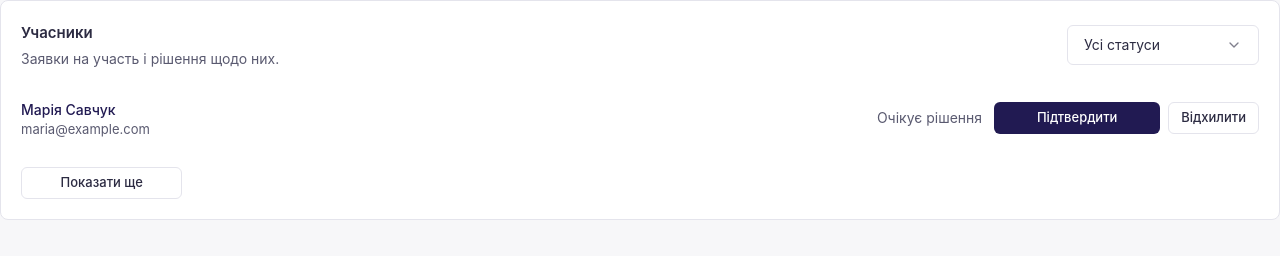
it: EventParticipantsCard › loads another cursor page without discarding the first
Click the button "Показати ще": (102, 183) [21, 167, 182, 199]
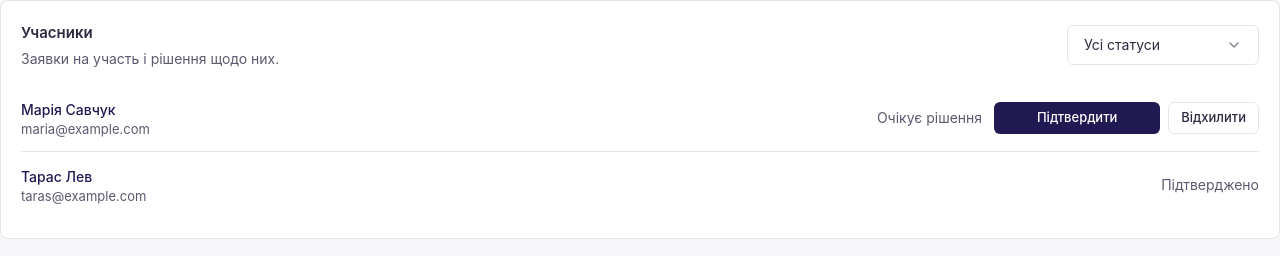
Expected: the link "Марія Савчук" is shown, [21, 101, 116, 118]
Expected: the link "Тарас Лев" is shown, [21, 168, 92, 185]
